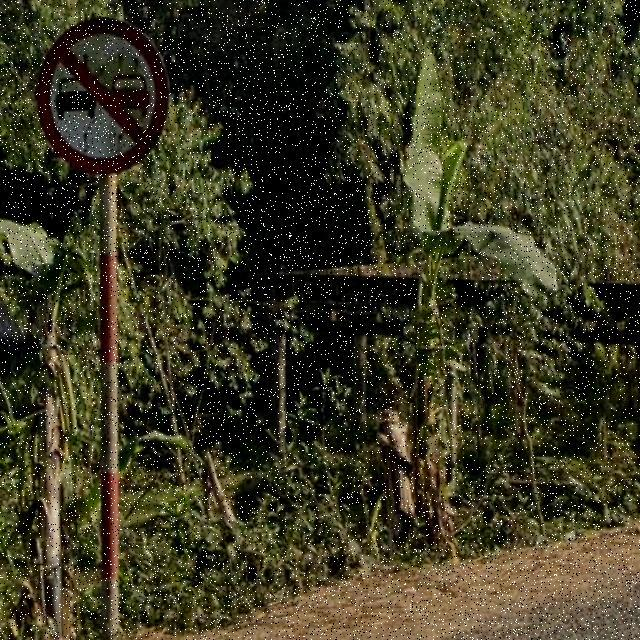Don-t-Overtracking: (40, 11, 160, 199)
